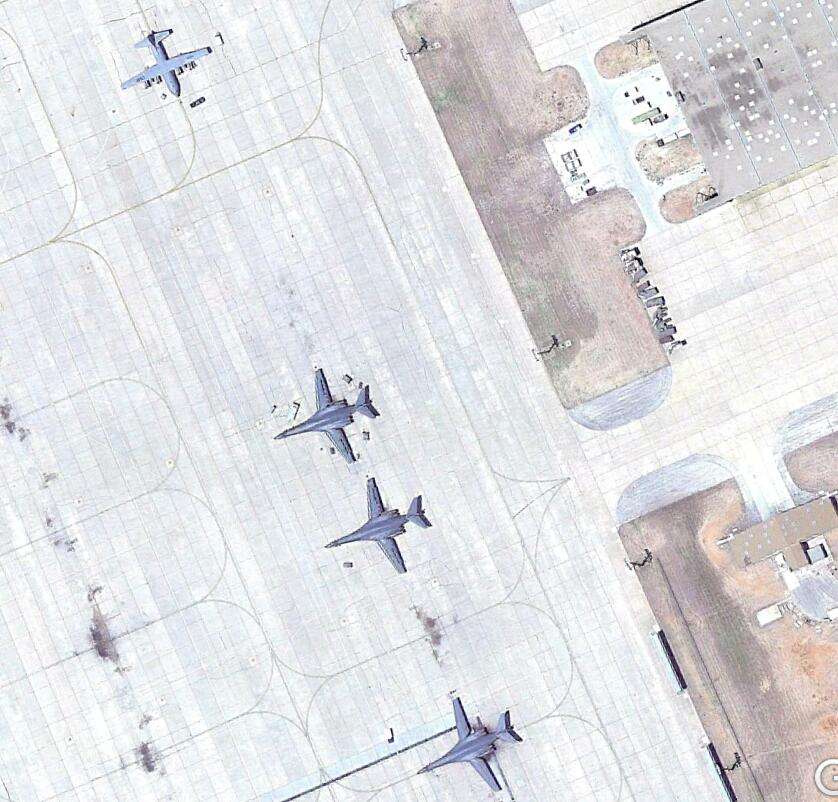A10: (317, 474, 432, 581), (416, 694, 525, 798), (272, 370, 384, 468)
A2: (118, 29, 219, 103)
